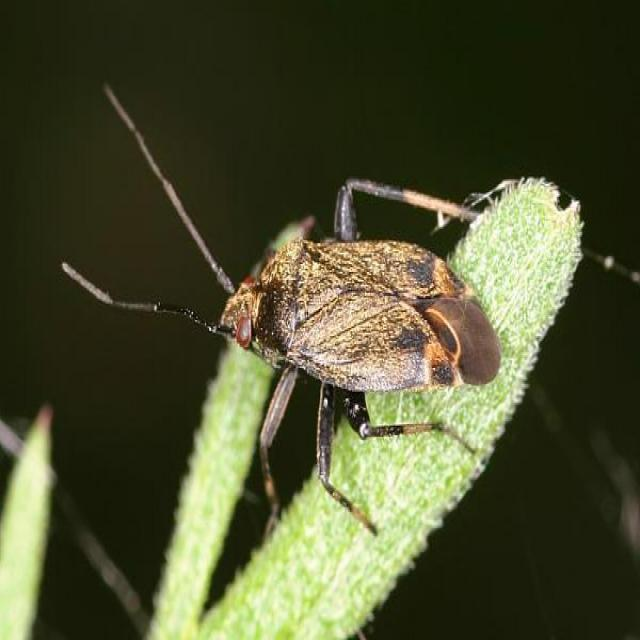Miridae-Adult-: (50, 80, 518, 527)
